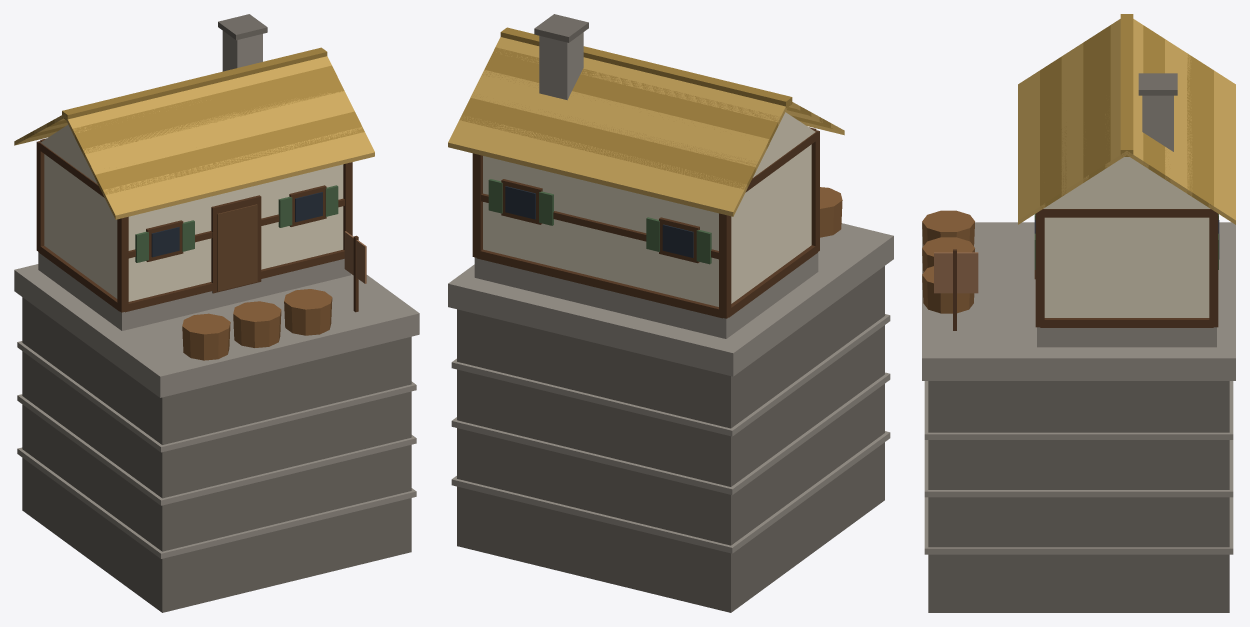
Rendered from tannery.glb.
The picture shows the model from 3 angles, left to right: view 1: azimuth 30°, elevation 25°; view 2: azimuth 150°, elevation 25°; view 3: azimuth 270°, elevation 25°; orthographic projection. The views are drawn at different scales.
Visible parts, largest first — view 1: tannery; view 2: tannery; view 3: tannery.
Boxes of the visible parts, <box> form: tannery: <box>14,14,419,612</box>; tannery: <box>448,14,893,612</box>; tannery: <box>922,14,1235,612</box>.
Bounding box in the file's own units: 5.1 × 8.72 × 4.97.
